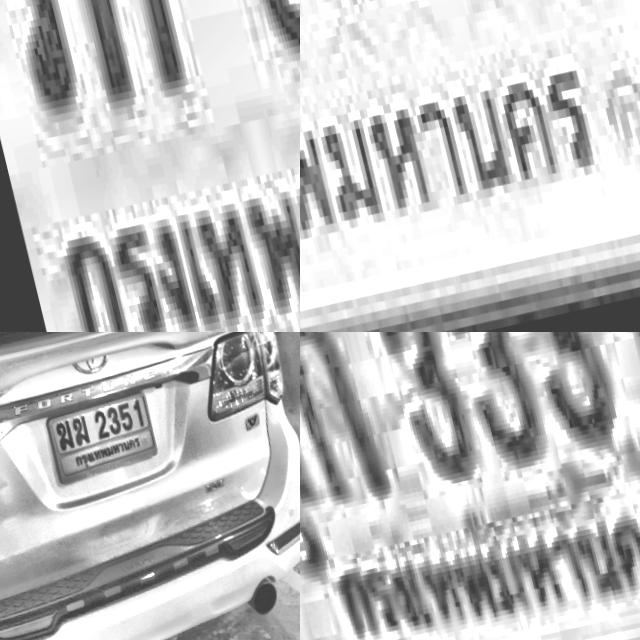license-plate: (300, 0, 640, 332), (300, 332, 640, 640), (0, 0, 300, 332), (41, 386, 164, 482)
